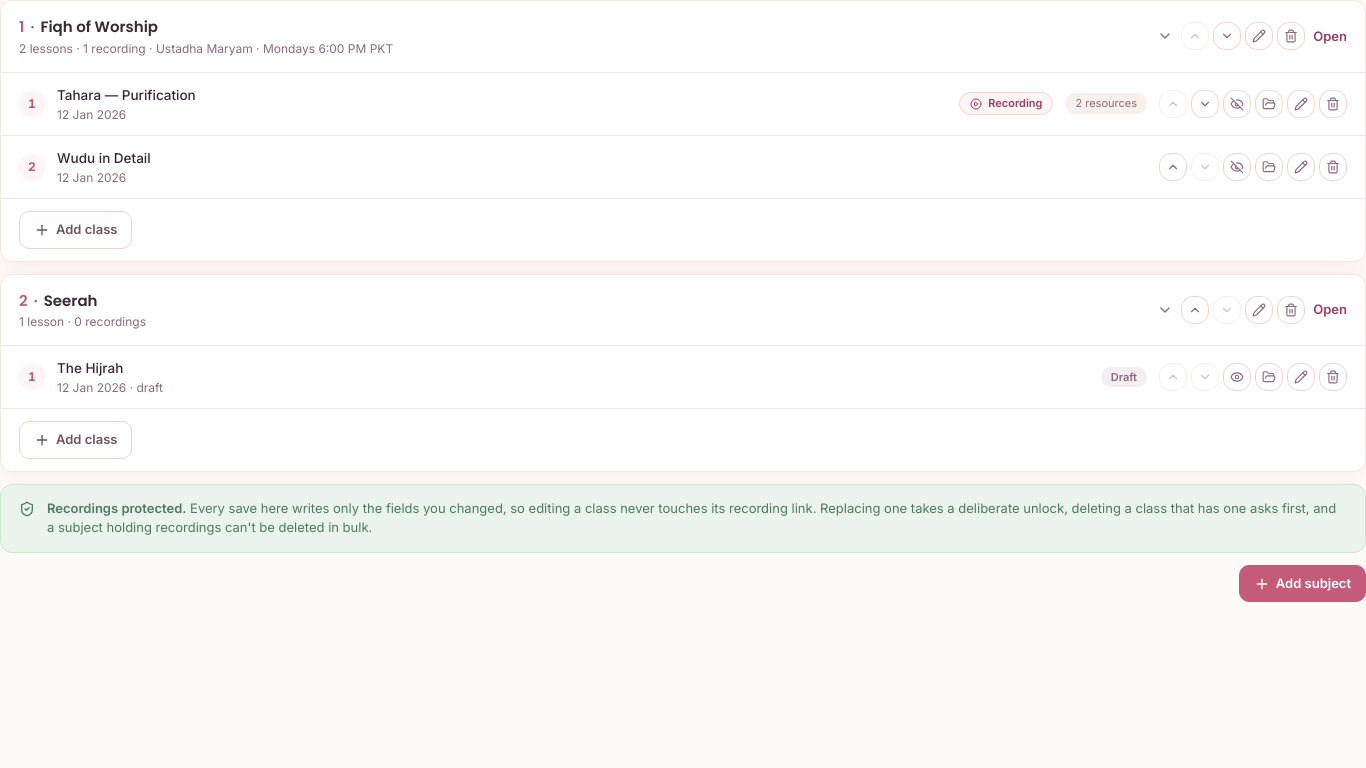
Test: CourseStructureEditor › does not mention a recording when deleting a lesson without one
Click the button named "Delete Wudu in Detail": (1333, 167) [1319,153,1347,181]
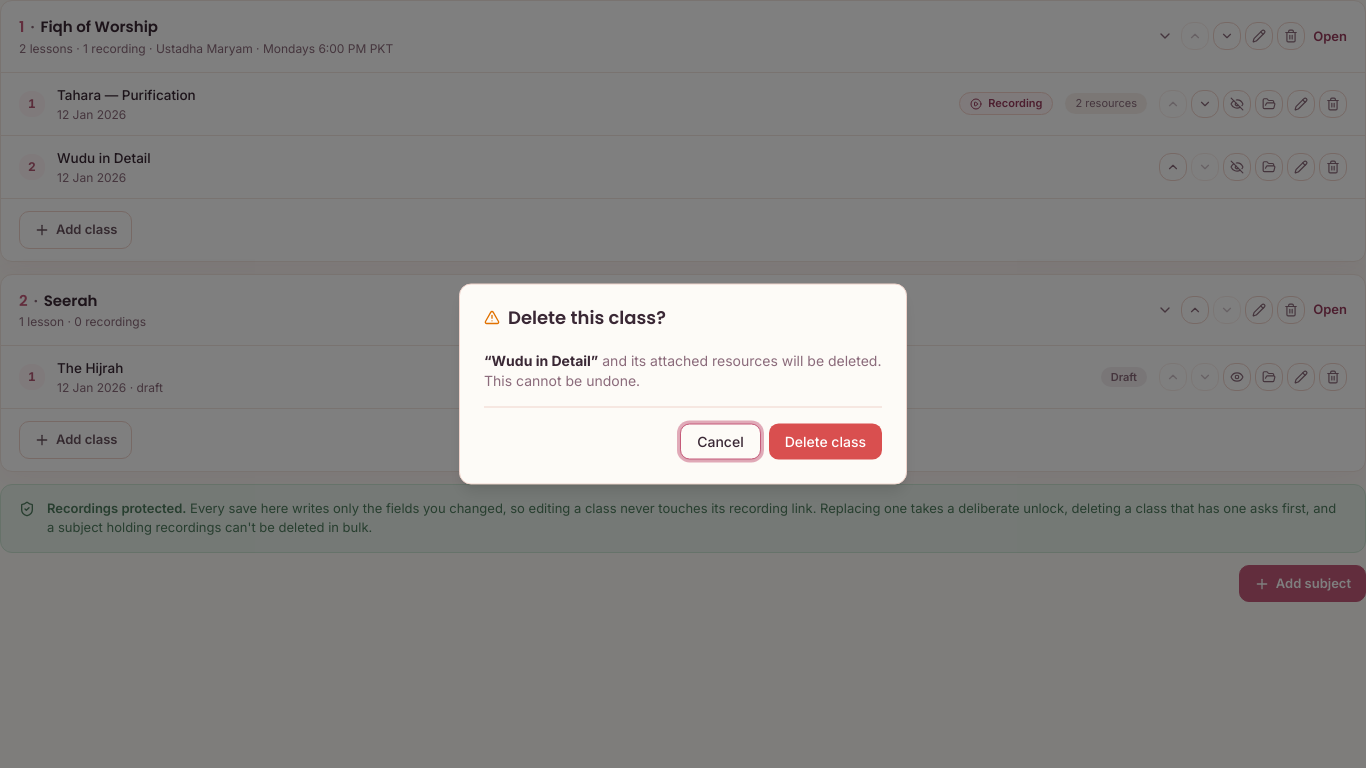
Now the button "Delete class" is shown, box [769,424,882,460]
